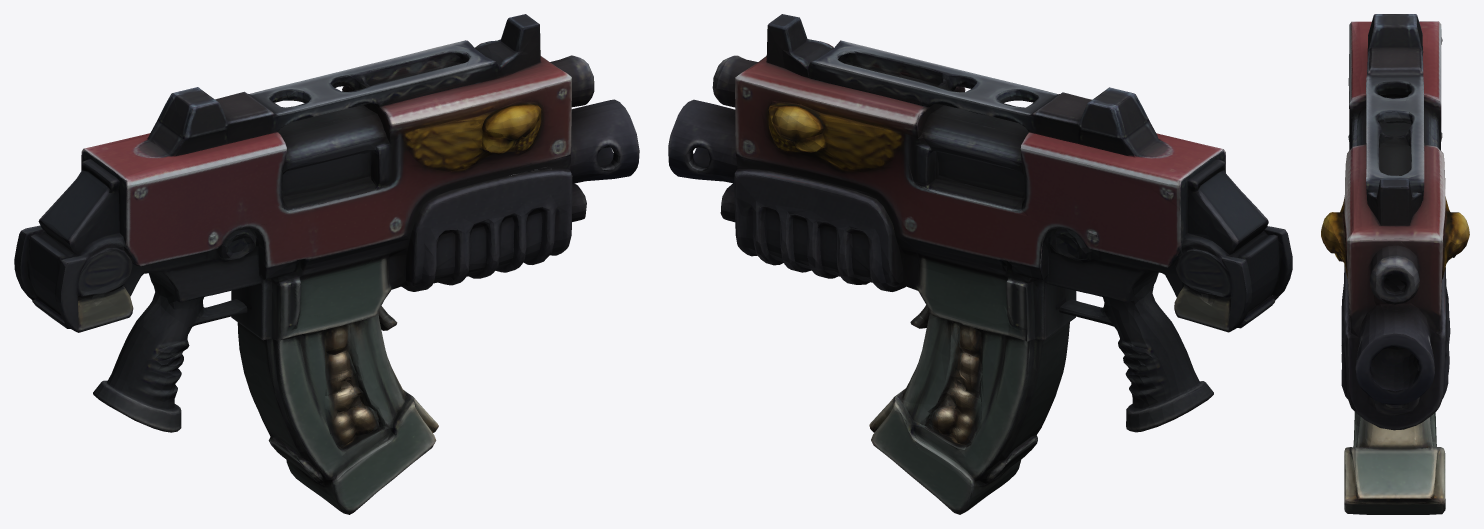
3 views of the same model, side by side, from view 1: azimuth 30°, elevation 25°; view 2: azimuth 150°, elevation 25°; view 3: azimuth 270°, elevation 25° (orthographic).
Visible parts, largest first — view 1: world; view 2: world; view 3: world.
Boxes of the visible parts, box(x1,y1,x2,y2) form: world: box(14, 14, 639, 514); world: box(668, 14, 1292, 514); world: box(1321, 14, 1469, 514).
Size of the model in its own units: 0.9996 by 0.7105 by 0.2222.
1 material, 1 textured.
